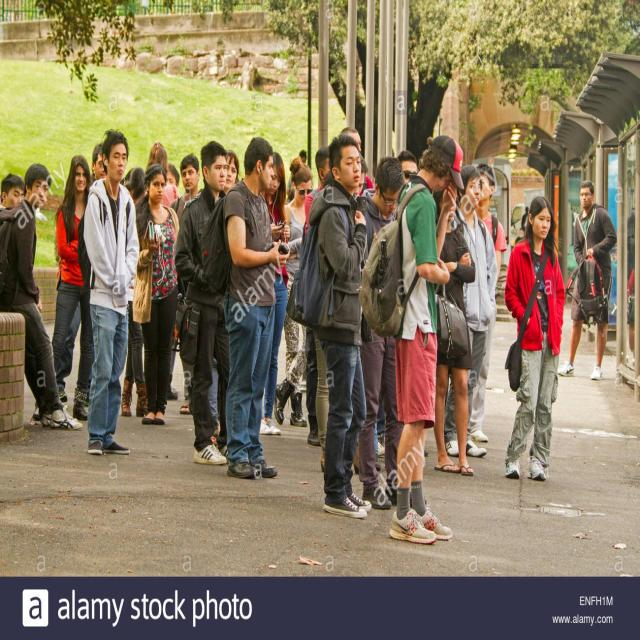body: (356, 131, 467, 547), (198, 136, 294, 482), (293, 133, 373, 518), (0, 161, 85, 433), (173, 138, 230, 467), (83, 128, 140, 456), (503, 194, 566, 482), (0, 170, 70, 427), (357, 153, 405, 508), (439, 164, 490, 460), (54, 142, 109, 408), (286, 143, 332, 447), (431, 188, 478, 478), (555, 176, 619, 382), (50, 154, 99, 421), (132, 161, 180, 426), (273, 154, 315, 428), (469, 162, 508, 444), (205, 148, 241, 445), (167, 154, 204, 417), (259, 150, 291, 437), (119, 167, 152, 419), (144, 139, 181, 208), (624, 194, 637, 372), (286, 148, 311, 206), (165, 161, 182, 214), (396, 149, 419, 188), (352, 152, 368, 198), (338, 124, 362, 154), (520, 204, 529, 237)
